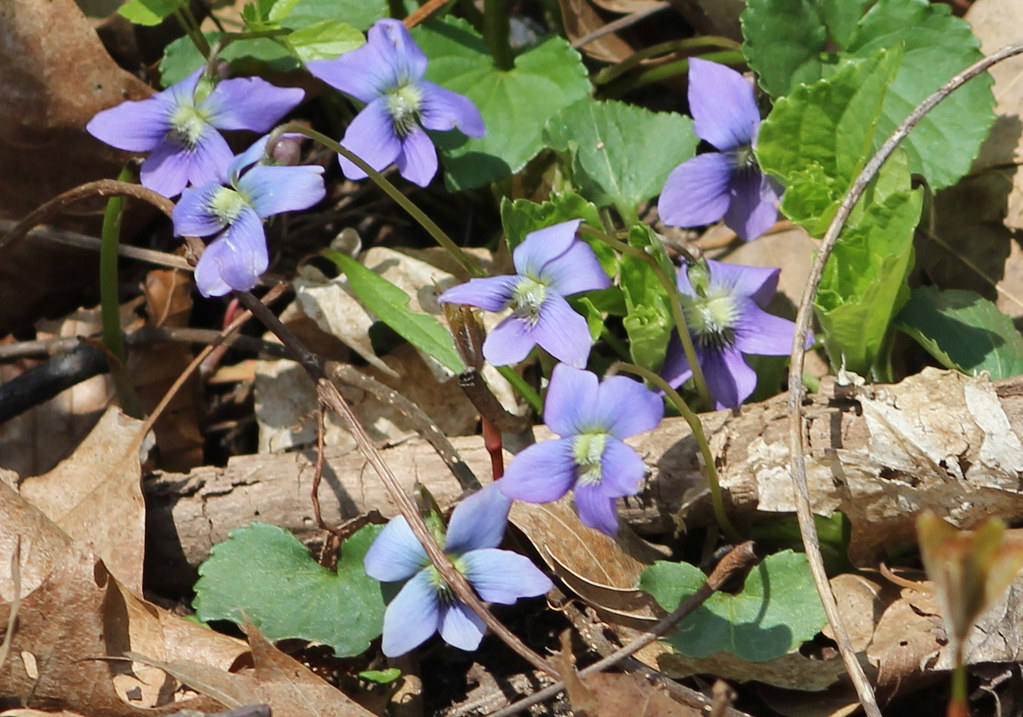violet: (350, 494, 561, 653), (659, 46, 803, 255), (311, 20, 488, 183), (508, 353, 657, 532), (459, 222, 622, 382), (87, 76, 327, 177), (157, 160, 329, 290)
